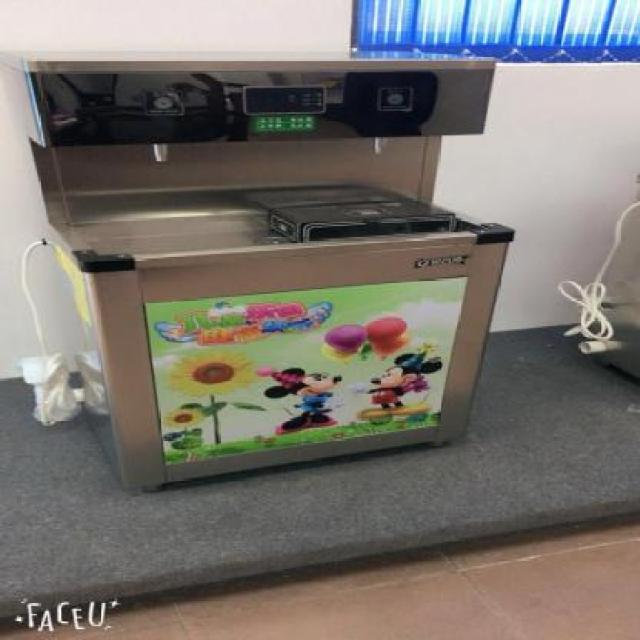cooler: (0, 50, 518, 495)
